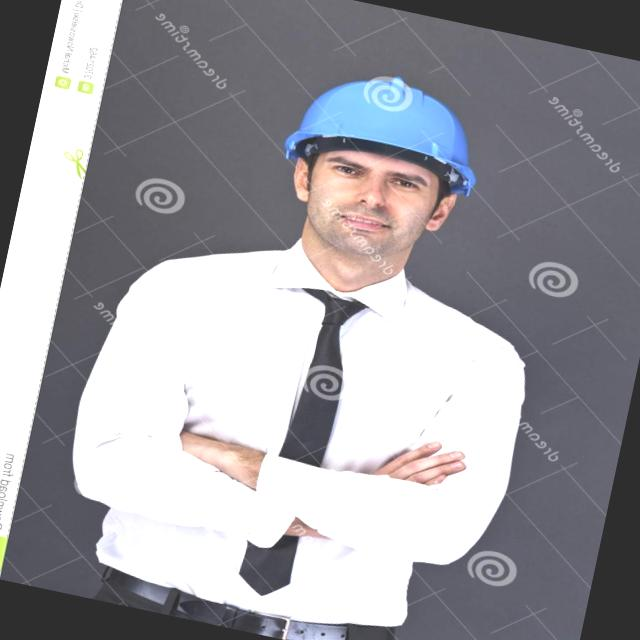helmet: (296, 55, 484, 177)
no-goggles: (304, 136, 462, 218)
no-vest: (55, 203, 552, 640)
